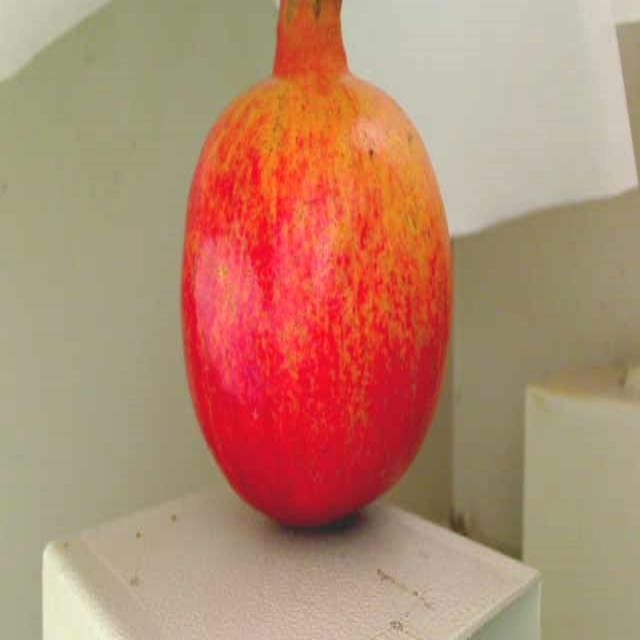pomegranate: (174, 0, 460, 528)
